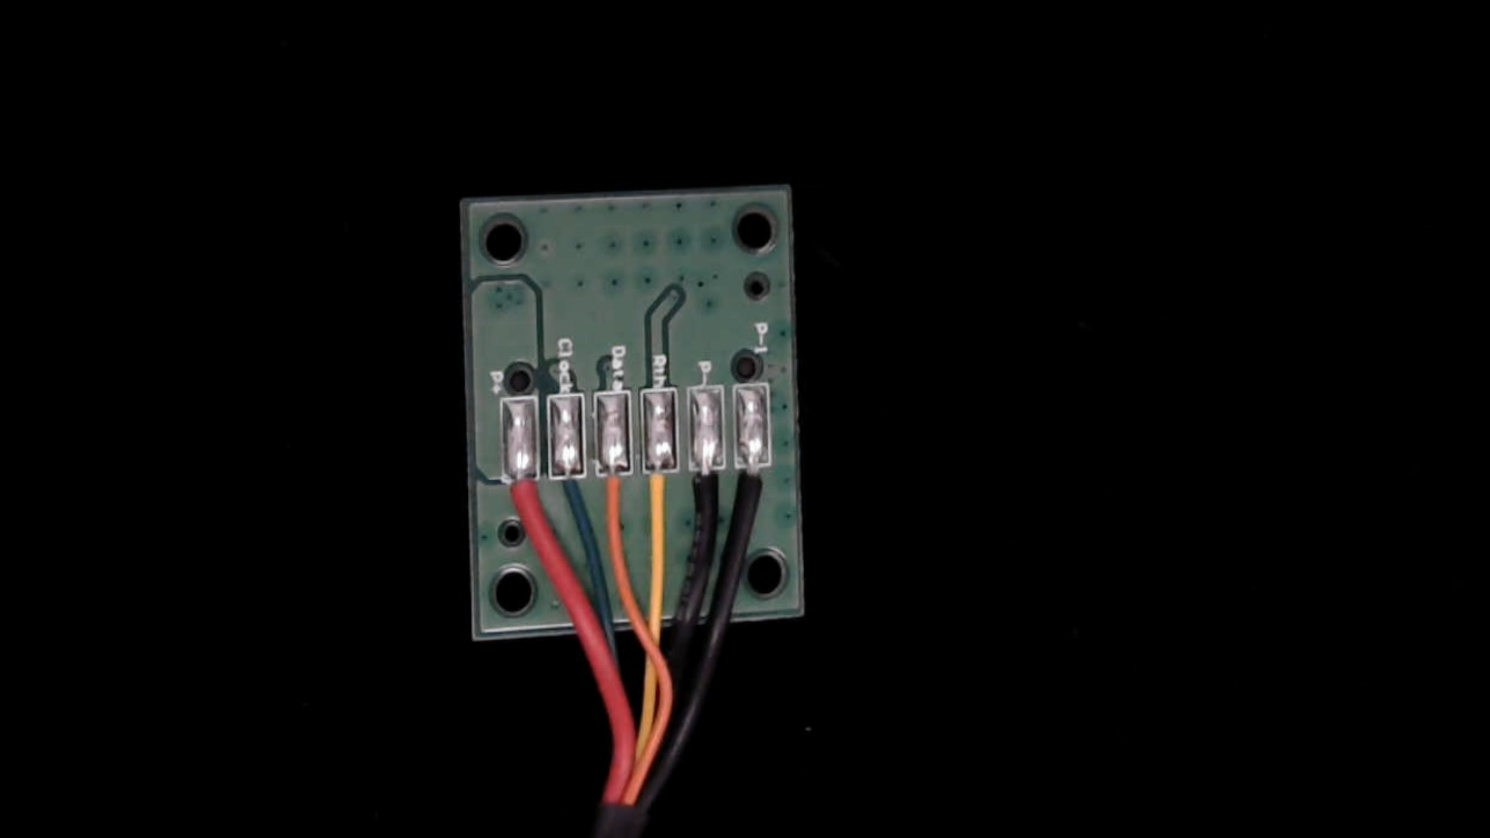Black: (688, 450, 729, 547)
Black1: (738, 440, 778, 530)
Green: (547, 453, 590, 541)
Orange: (595, 454, 636, 550)
Red: (502, 458, 543, 553)
Yellow: (644, 447, 685, 546)
